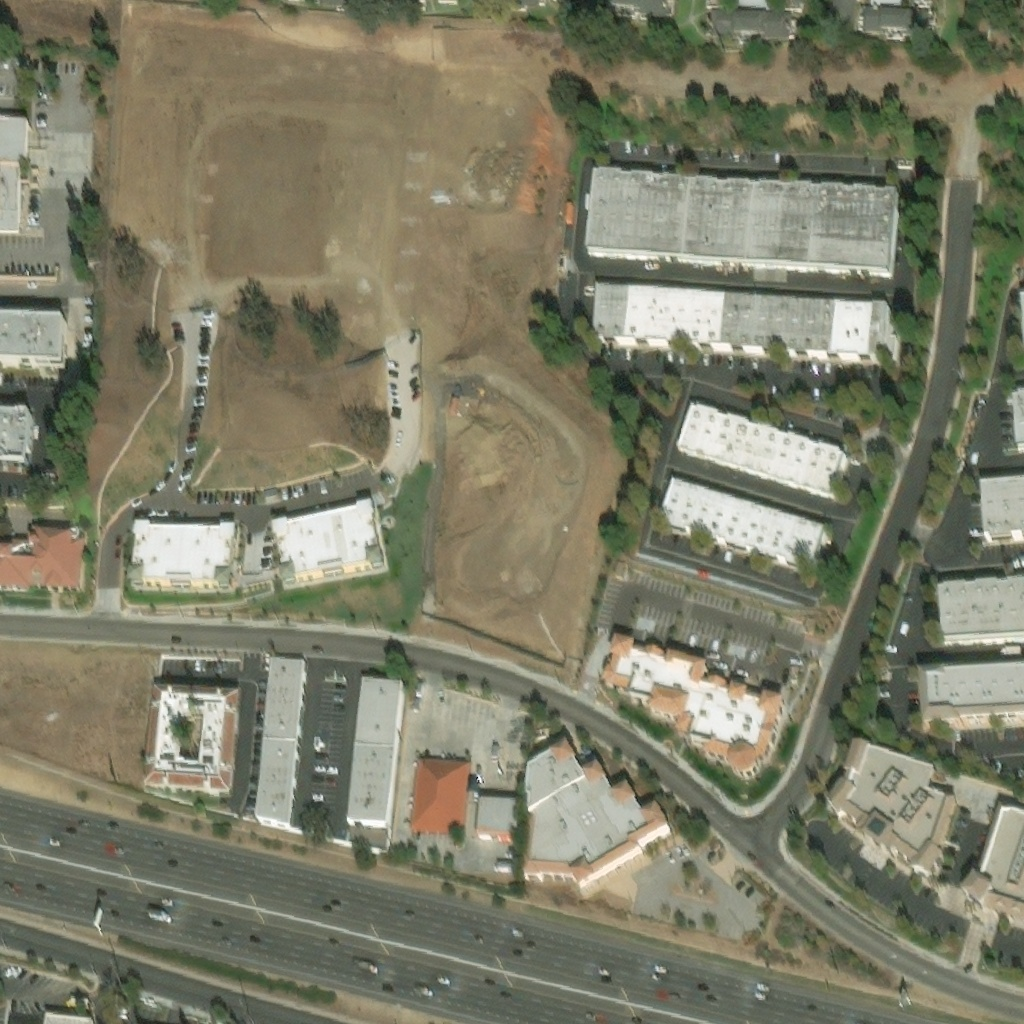0 no-damage: (587, 166, 901, 277), (603, 635, 787, 777), (592, 286, 901, 366), (524, 742, 672, 892), (827, 739, 957, 878), (675, 407, 853, 504), (658, 481, 832, 578), (142, 685, 241, 798), (273, 504, 389, 591), (347, 677, 404, 827), (257, 659, 306, 827), (131, 521, 237, 593), (964, 802, 1023, 920), (920, 667, 1023, 731), (0, 520, 84, 590), (940, 578, 1023, 646), (409, 756, 471, 837), (0, 119, 31, 231), (704, 2, 790, 38), (0, 309, 65, 356), (981, 480, 1023, 542), (864, 5, 934, 35), (476, 801, 522, 842), (0, 403, 30, 460), (555, 0, 665, 12), (972, 4, 1001, 44), (828, 0, 857, 25), (318, 0, 425, 6), (1013, 391, 1023, 453), (45, 1015, 95, 1023), (506, 0, 540, 6), (736, 0, 765, 7), (868, 0, 902, 5)
